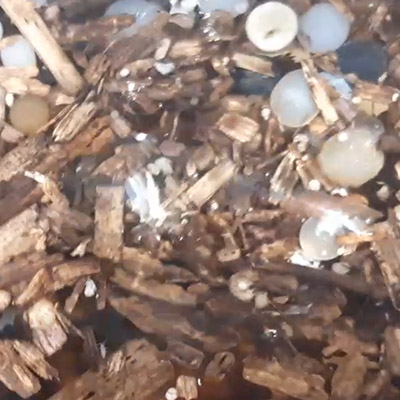nurdle: (288, 202, 369, 265), (313, 128, 388, 188), (267, 68, 328, 129), (240, 1, 303, 53), (297, 2, 355, 56), (8, 94, 59, 137)
